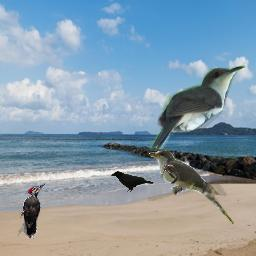Crow: (109, 170, 154, 192)
Cuckoo: (150, 65, 247, 152), (148, 150, 234, 224)
Woodpecker: (18, 183, 47, 239)
